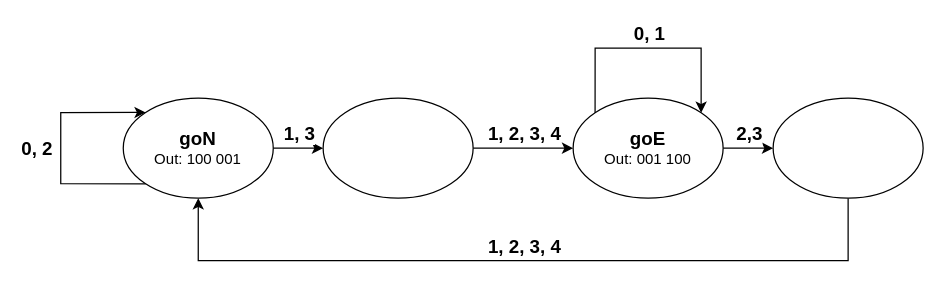
Image size: 946x293. Some labels were removed from this diagram. The shapes that lost their labels are listed below. From the top down, each one's centre as x and y in pixels, then its label:
At [397,147]: "waitN Out: 100 010".
At [847,147]: "waitE Out: 010 100".
